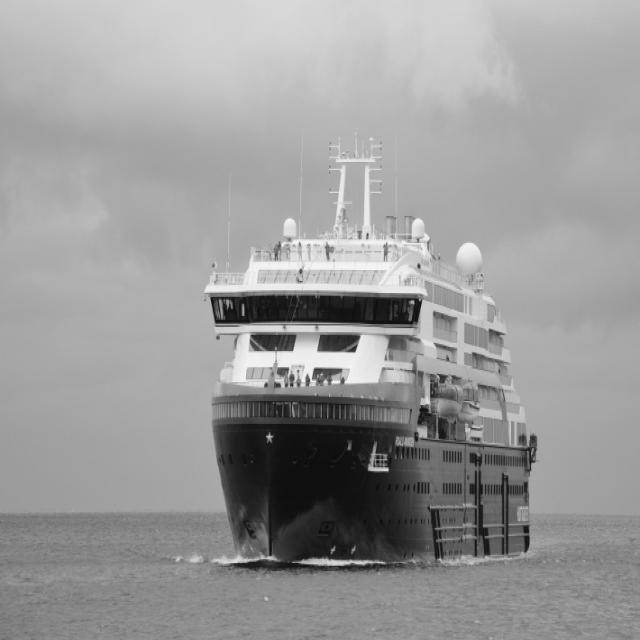cruises: (199, 131, 539, 595)
